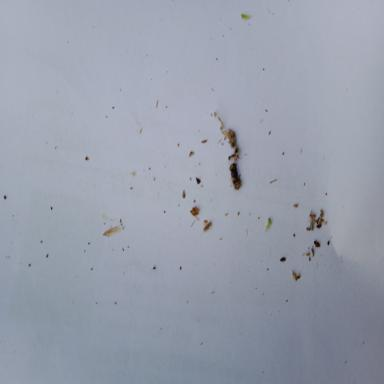pbw: (230, 166, 243, 190), (103, 225, 125, 237), (227, 128, 236, 148), (292, 271, 297, 281), (310, 219, 314, 231)
